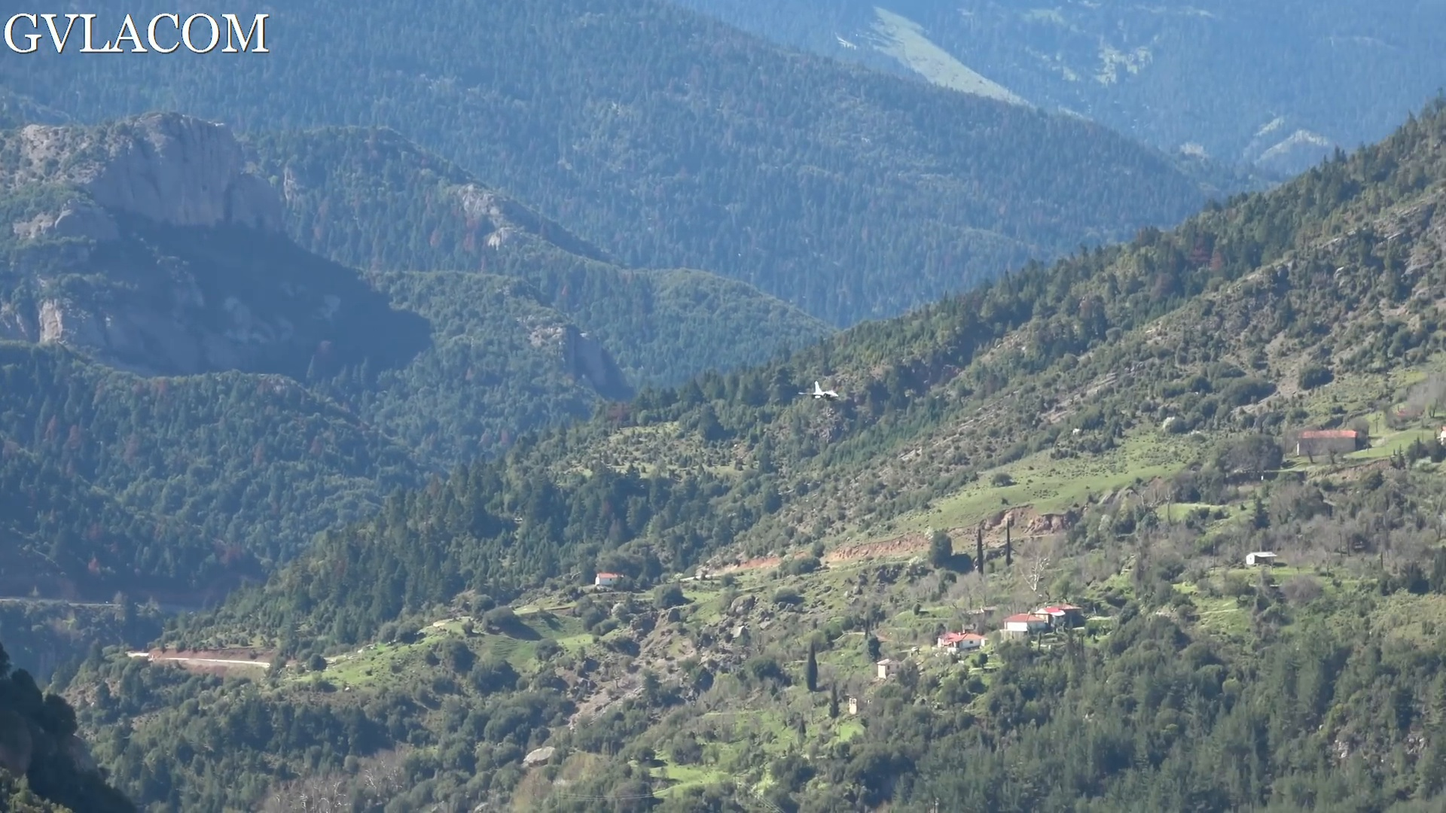Rafale: (797, 378, 840, 404)
